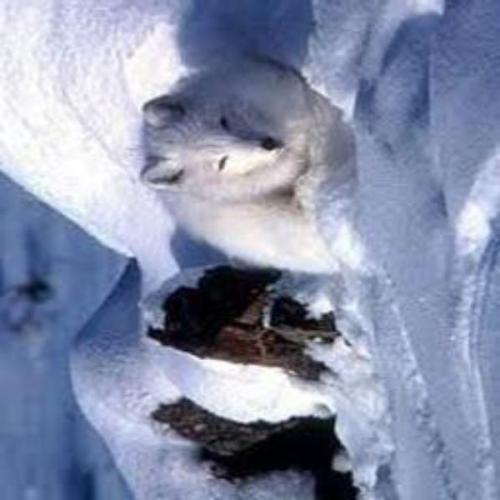arctic_fox-endangered: (139, 63, 338, 274)
